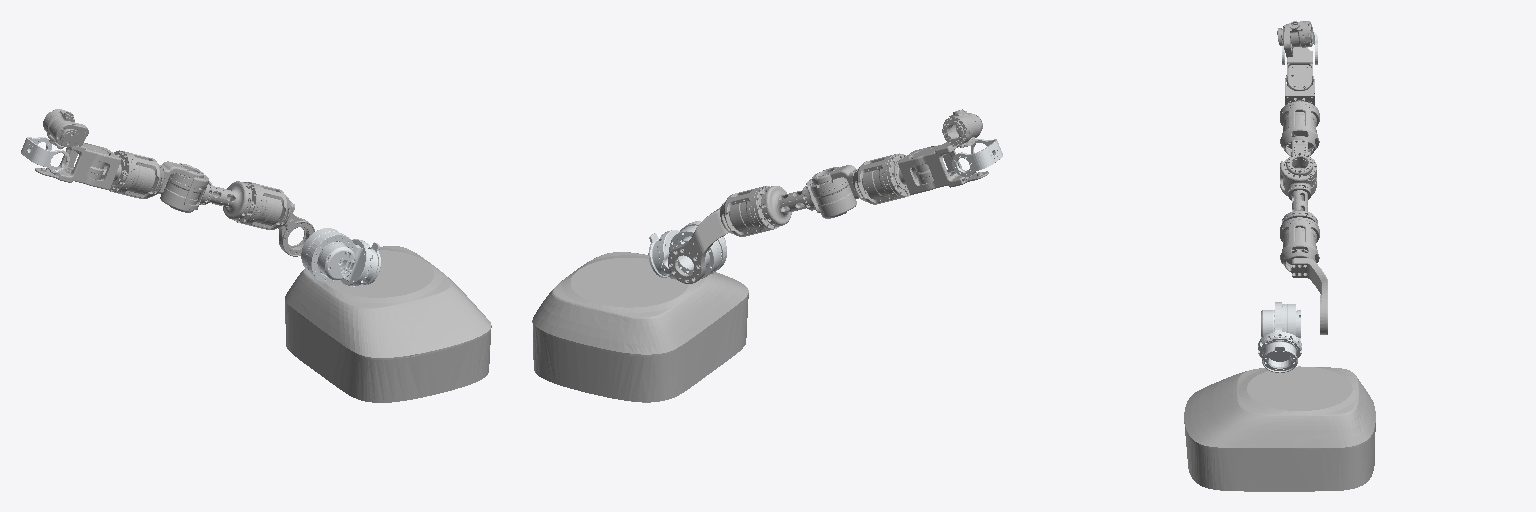
The robot description file, URDF, robot "human_left_arm":
<?xml version="1.0" encoding="utf-8"?>
<!-- This URDF was automatically created by SolidWorks to URDF Exporter! Originally created by [author] ([email redacted]) 
     Commit Version: 1.6.0-1-g15f4949  Build Version: 1.6.7594.29634
     For more information, please see http://wiki.ros.org/sw_urdf_exporter -->
<robot
  name="human_left_arm">
  <link
    name="base_link">
    <inertial>
      <origin
        xyz="1.37352047471449E-06 -0.0253250353768743 -0.0835743312941882"
        rpy="0 0 0" />
      <mass
        value="17.8231752123914" />
      <inertia
        ixx="0.119710210297738"
        ixy="-3.14492309417168E-06"
        ixz="-6.74573383336699E-07"
        iyy="0.0839896976645685"
        iyz="-0.00293085059302581"
        izz="0.163798975550701" />
    </inertial>
    <visual>
      <origin
        xyz="0 0 0"
        rpy="0 0 0" />
      <geometry>
        <mesh
          filename="package://meshes/base_link.STL" />
      </geometry>
      <material
        name="">
        <color
          rgba="0.752941176470588 0.752941176470588 0.752941176470588 1" />
      </material>
    </visual>
    <collision>
      <origin
        xyz="0 0 0"
        rpy="0 0 0" />
      <geometry>
        <mesh
          filename="package://meshes/base_link.STL" />
      </geometry>
    </collision>
  </link>
  <link
    name="1_Link">
    <inertial>
      <origin
        xyz="-0.0000    0.0052    0.0578"
        rpy="0 0 0" />
      <mass
        value="0.7427" />
      <inertia
        ixx=" 0.6214e-03"
        ixy="     0.0005e-03"
        ixz="    -0.0025e-03"
        iyy="     0.6610e-03"
        iyz="     0.4813e-03"
        izz="     0.3885e-03"/>
    </inertial>
    <visual>
      <origin
        xyz="0 0 0"
        rpy="0 0 0" />
      <geometry>
        <mesh
          filename="package://meshes/1_Link.STL" />
      </geometry>
      <material
        name="">
        <color
          rgba="0.89804 0.91765 0.92941 1" />
      </material>
    </visual>
    <collision>
      <origin
        xyz="0 0 0"
        rpy="0 0 0" />
      <geometry>
        <mesh
          filename="package://meshes/1_Link.STL" />
      </geometry>
    </collision>
  </link>
  <joint
    name="J1"
    type="revolute">
    <origin
      xyz="-0.0498         0    0.0232"
      rpy="0 -1.1345 0" />
    <parent
      link="base_link" />
    <child
      link="1_Link" />
    <axis
      xyz="0 0 1" />
    <limit
      lower="0"
      upper="0"
      effort="0"
      velocity="0" />
    <mimic
      joint="J1"
      multiplier="1"
      offset="0" />
  </joint>
  <link
    name="2_Link">
    <inertial>
      <origin
        xyz="0.0360   -0.0260    0.0940"
        rpy="0 0 0" />
      <mass
        value="0.4866" />
      <inertia
        ixx="  0.0009"
        ixy="    -0.0010"
        ixz="     0.0035"
        iyy="     0.0009"
        iyz="    -0.0026"
        izz="     0.0003"/>
    </inertial>
    <visual>
      <origin
        xyz="0 0 0"
        rpy="0 0 0" />
      <geometry>
        <mesh
          filename="package://meshes/2_Link.STL" />
      </geometry>
      <material
        name="">
        <color
          rgba="0.75294 0.75294 0.75294 1" />
      </material>
    </visual>
    <collision>
      <origin
        xyz="0 0 0"
        rpy="0 0 0" />
      <geometry>
        <mesh
          filename="package://meshes/2_Link.STL" />
      </geometry>
    </collision>
  </link>
  <joint
    name="J2"
    type="revolute">
    <origin
      xyz="0 0.032 0.067"
      rpy="0 0 0" />
    <parent
      link="1_Link" />
    <child
      link="2_Link" />
    <axis
      xyz="0 1 0" />
    <limit
      lower="0"
      upper="0"
      effort="0"
      velocity="0" />
    <mimic
      joint="J2"
      multiplier="1"
      offset="0" />
  </joint>
  <link
    name="3_Link">
    <inertial>
      <origin
        xyz=" 0.0005   -0.0006    0.0853"
        rpy="0 0 0" />
      <mass
        value="0.4486" />
      <inertia
        ixx=" 0.7964e-03"
        ixy="   -0.0020e-03"
        ixz="    0.0404e-03"
        iyy="    0.8018e-03"
        iyz="   -0.0510e-03"
        izz="    0.1558e-03" />
    </inertial>
    <visual>
      <origin
        xyz="0 0 0"
        rpy="0 0 0" />
      <geometry>
        <mesh
          filename="package://meshes/3_Link.STL" />
      </geometry>
      <material
        name="">
        <color
          rgba="0.75294 0.75294 0.75294 1" />
      </material>
    </visual>
    <collision>
      <origin
        xyz="0 0 0"
        rpy="0 0 0" />
      <geometry>
        <mesh
          filename="package://meshes/3_Link.STL" />
      </geometry>
    </collision>
  </link>
  <joint
    name="J3"
    type="revolute">
    <origin
      xyz="0.04 -0.032 0.13653"
      rpy="0 0 0" />
    <parent
      link="2_Link" />
    <child
      link="3_Link" />
    <axis
      xyz="0 0 1" />
    <limit
      lower="0"
      upper="0"
      effort="0"
      velocity="0" />
    <mimic
      joint="J3"
      multiplier="1"
      offset="0" />
  </joint>
  <link
    name="4_Link">
    <inertial>
      <origin
        xyz="-0.0208   -0.0001    0.0870"
        rpy="0 0 0" />
      <mass
        value="   0.4259" />
      <inertia
        ixx="  0.0004"
        ixy="     0.0000"
        ixz="    -0.0016"
        iyy="     0.0004"
        iyz="    -0.0000"
        izz="     0.0002"    />
    </inertial>
    <visual>
      <origin
        xyz="0 0 0"
        rpy="0 0 0" />
      <geometry>
        <mesh
          filename="package://meshes/4_Link.STL" />
      </geometry>
      <material
        name="">
        <color
          rgba="0.75294 0.75294 0.75294 1" />
      </material>
    </visual>
    <collision>
      <origin
        xyz="0 0 0"
        rpy="0 0 0" />
      <geometry>
        <mesh
          filename="package://meshes/4_Link.STL" />
      </geometry>
    </collision>
  </link>
  <joint
    name="J4"
    type="revolute">
    <origin
      xyz="0.02253 0.0 0.11"
      rpy="0 0 0" />
    <parent
      link="3_Link" />
    <child
      link="4_Link" />
    <axis
      xyz="1 0 0" />
    <limit
      lower="0"
      upper="0"
      effort="0"
      velocity="0" />
    <mimic
      joint="J4"
      multiplier="1"
      offset="0" />
  </joint>
  <link
    name="5_Link">
    <inertial>
      <origin
        xyz=" -0.0004    0.0000    0.0552"
        rpy="0 0 0" />
      <mass
        value="0.3152" />
      <inertia
        ixx=" 0.2978e-03"
        ixy="    0.0000e-03"
        ixz="   -0.0139e-03"
        iyy="    0.3357e-03"
        iyz="    0.0004e-03"
        izz="    0.1309e-03" />
    </inertial>
    <visual>
      <origin
        xyz="0 0 0"
        rpy="0 0 0" />
      <geometry>
        <mesh
          filename="package://meshes/5_Link.STL" />
      </geometry>
      <material
        name="">
        <color
          rgba="0.75294 0.75294 0.75294 1" />
      </material>
    </visual>
    <collision>
      <origin
        xyz="0 0 0"
        rpy="0 0 0" />
      <geometry>
        <mesh
          filename="package://meshes/5_Link.STL" />
      </geometry>
    </collision>
  </link>
  <joint
    name="J5"
    type="revolute">
    <origin
      xyz="-0.0225 0.0 0.11903"
      rpy="0 0 0" />
    <parent
      link="4_Link" />
    <child
      link="5_Link" />
    <axis
      xyz="0 0 1" />
    <limit
      lower="0"
      upper="0"
      effort="0"
      velocity="0" />
    <mimic
      joint="J5"
      multiplier="1"
      offset="0" />
  </joint>
  <link
    name="6_Link">
    <inertial>
      <origin
        xyz="-0.0212    0.0011   -0.0013"
        rpy="0 0 0" />
      <mass
        value="0.1826" />
      <inertia
        ixx="0.5128e-04"
        ixy="   -0.0822e-04"
        ixz="    0.1013e-04"
        iyy="    0.4184e-04"
        iyz="    0.0304e-04"
        izz="    0.5217e-04"/>
    </inertial>
    <visual>
      <origin
        xyz="0 0 0"
        rpy="0 0 0" />
      <geometry>
        <mesh
          filename="package://meshes/6_Link.STL" />
      </geometry>
      <material
        name="">
        <color
          rgba="0.752941176470588 0.752941176470588 0.752941176470588 1" />
      </material>
    </visual>
    <collision>
      <origin
        xyz="0 0 0"
        rpy="0 0 0" />
      <geometry>
        <mesh
          filename="package://meshes/6_Link.STL" />
      </geometry>
    </collision>
  </link>
  <joint
    name="J6"
    type="revolute">
    <origin
      xyz="0.0214 0.0 0.1225"
      rpy="0 0 0" />
    <parent
      link="5_Link" />
    <child
      link="6_Link" />
    <axis
      xyz="1 0 0" />
    <limit
      lower="0"
      upper="0"
      effort="0"
      velocity="0" />
    <mimic
      joint="J6"
      multiplier="1"
      offset="0" />
  </joint>
  <link
    name="7_Link">
    <inertial>
      <origin
        xyz=" -0.0048   -0.0239    0.0724"
        rpy="0 0 0" />
      <mass
        value=" 0.3250" />
      <inertia
        ixx=" 0.0004"
        ixy="    0.0001"
        ixz="   -0.0003"
        iyy="    0.0004"
        iyz="   -0.0011"
        izz="    0.0001" />
    </inertial>
    <visual>
      <origin
        xyz="0 0 0"
        rpy="0 0 0" />
      <geometry>
        <mesh
          filename="package://meshes/7_Link.STL" />
      </geometry>
      <material
        name="">
        <color
          rgba="0.898039215686275 0.917647058823529 0.929411764705882 1" />
      </material>
    </visual>
    <collision>
      <origin
        xyz="0 0 0"
        rpy="0 0 0" />
      <geometry>
        <mesh
          filename="package://meshes/7_Link.STL" />
      </geometry>
    </collision>
  </link>
  <joint
    name="J7"
    type="revolute">
    <origin
      xyz="-0.0214 0.023 0.0"
      rpy="0 0 0" />
    <parent
      link="6_Link" />
    <child
      link="7_Link" />
    <axis
      xyz="0 1 0" />
    <limit
      lower="0"
      upper="0"
      effort="0"
      velocity="0" />
    <mimic
      joint="J7"
      multiplier="1"
      offset="0" />
  </joint>
</robot>

--- Facts derived from the render (not from the file) ---
The picture shows the robot from 3 angles, left to right: view 1: azimuth 30°, elevation 25°; view 2: azimuth 150°, elevation 25°; view 3: azimuth 270°, elevation 25°; orthographic projection.
Robot: human_left_arm — 8 links, 7 joints (7 revolute); root link base_link; default pose: all joints at 0.
Visible links, largest first — view 1: base_link, 1_Link, 3_Link, 2_Link, 5_Link, 4_Link, 6_Link, 7_Link; view 2: base_link, 2_Link, 3_Link, 5_Link, 4_Link, 1_Link, 6_Link, 7_Link; view 3: base_link, 2_Link, 1_Link, 4_Link, 3_Link, 5_Link, 6_Link.
Link boxes in pixels (box(x1,y1,x2,y2)): base_link: box(285, 246, 491, 402); 1_Link: box(301, 228, 380, 286); 3_Link: box(160, 173, 251, 219); 2_Link: box(234, 182, 314, 256); 5_Link: box(35, 135, 124, 189); 4_Link: box(109, 150, 203, 198); 6_Link: box(43, 109, 88, 148); 7_Link: box(21, 137, 69, 172); base_link: box(532, 252, 748, 402); 2_Link: box(668, 186, 779, 283); 3_Link: box(761, 177, 856, 226); 5_Link: box(894, 137, 988, 194); 4_Link: box(811, 153, 910, 204); 1_Link: box(648, 221, 726, 279); 6_Link: box(942, 109, 982, 147); 7_Link: box(952, 139, 1002, 176); base_link: box(1184, 366, 1375, 491); 2_Link: box(1280, 217, 1327, 334); 1_Link: box(1258, 302, 1301, 372); 4_Link: box(1280, 101, 1319, 175); 3_Link: box(1280, 156, 1317, 223); 5_Link: box(1285, 47, 1314, 105); 6_Link: box(1277, 21, 1313, 57).
Bounding box of the posed robot: 0.686 × 0.29 × 0.4985 m (x, y, z).
8 mesh visuals loaded from 8 distinct referenced files (8 binary STL).